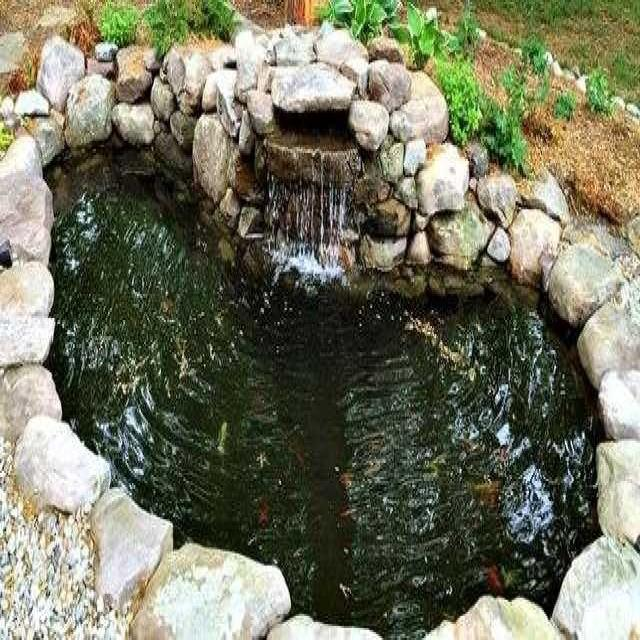Ponds: (1, 26, 640, 640)
